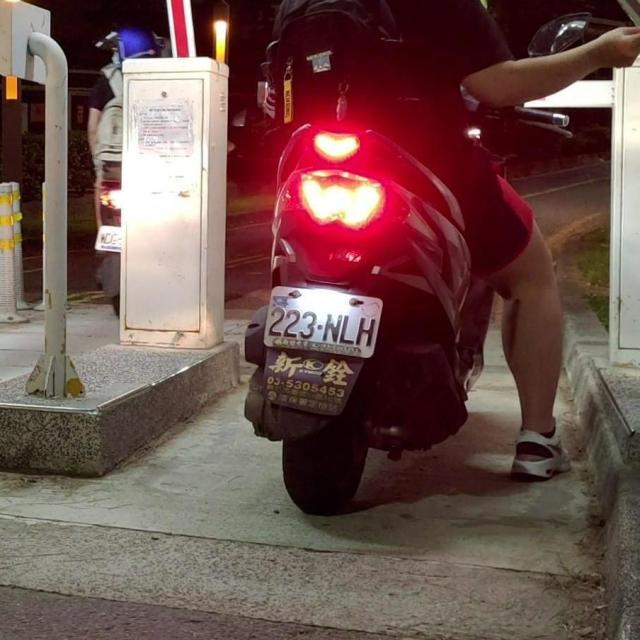W: (261, 281, 387, 360)
